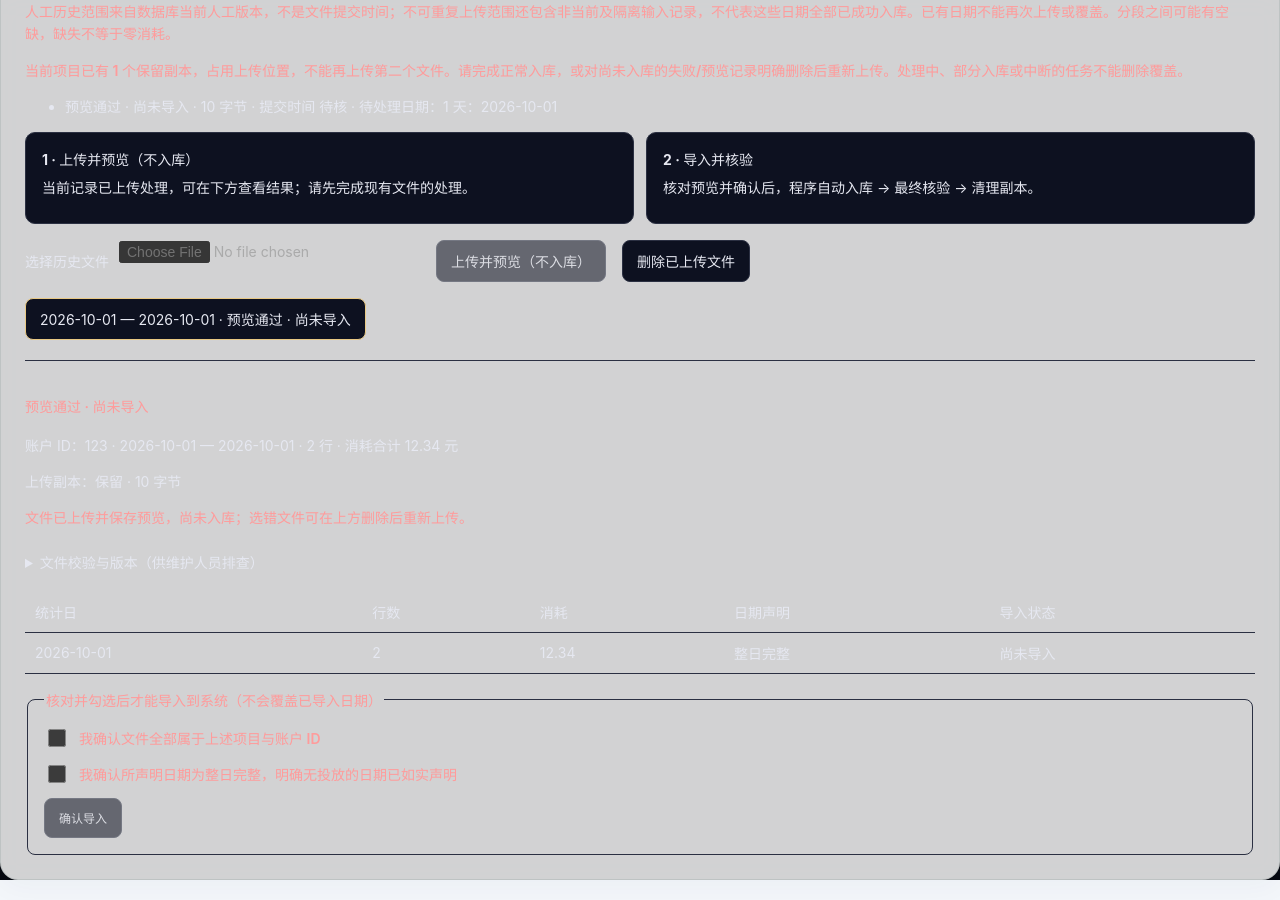
Test: history upload confirmation and isolation › keeps completed import locked after context read failure until an explicit successful refresh
The width and height of the screenshot is (1280, 900).
(page scrolled)
Click the checkbox labelled "我确认文件全部属于上述项目与账户 ID" at (57, 738), box [48,729,66,747]
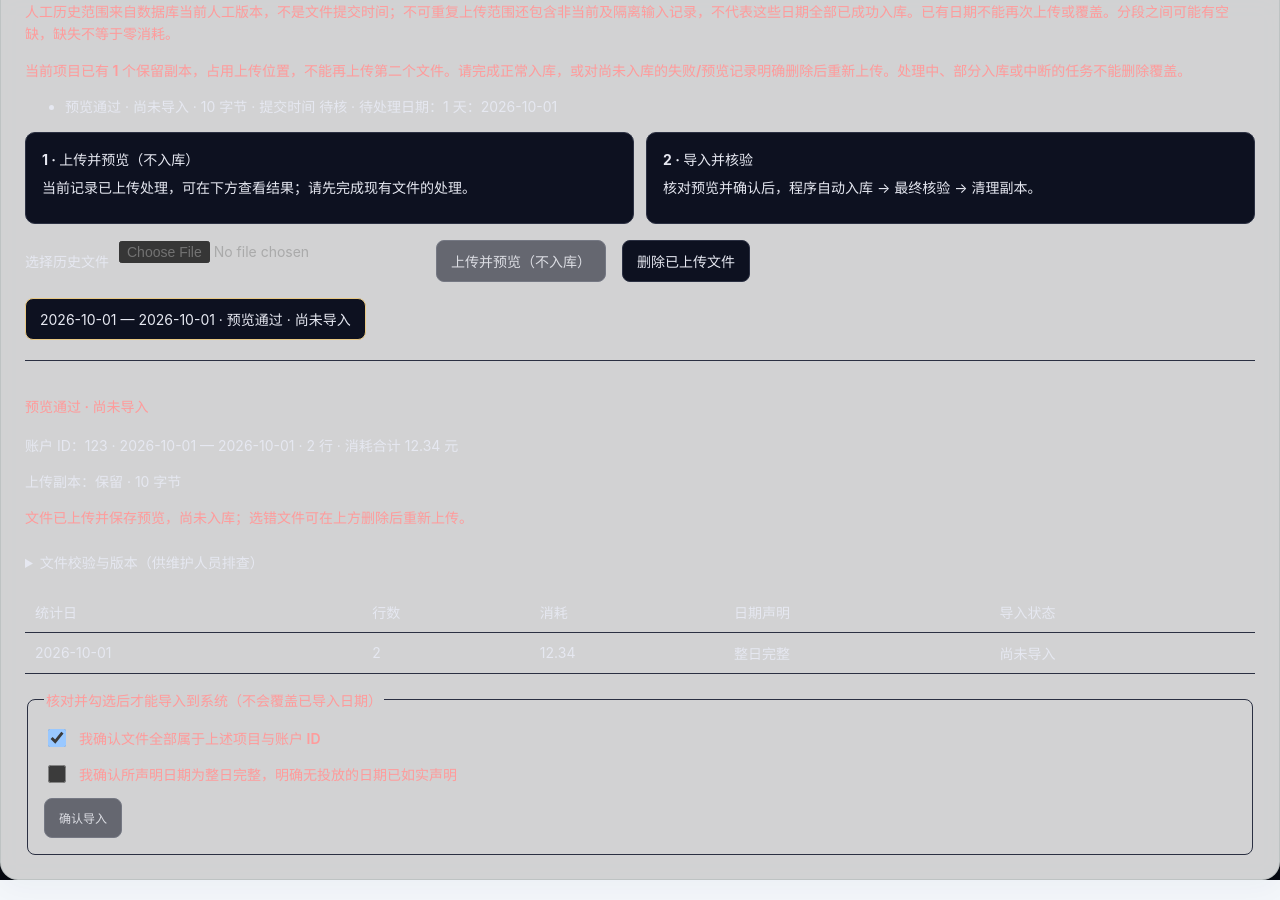
Click the checkbox labelled "我确认所声明日期为整日完整，明确无投放的日期已如实声明" at (57, 774), box [48,765,66,783]
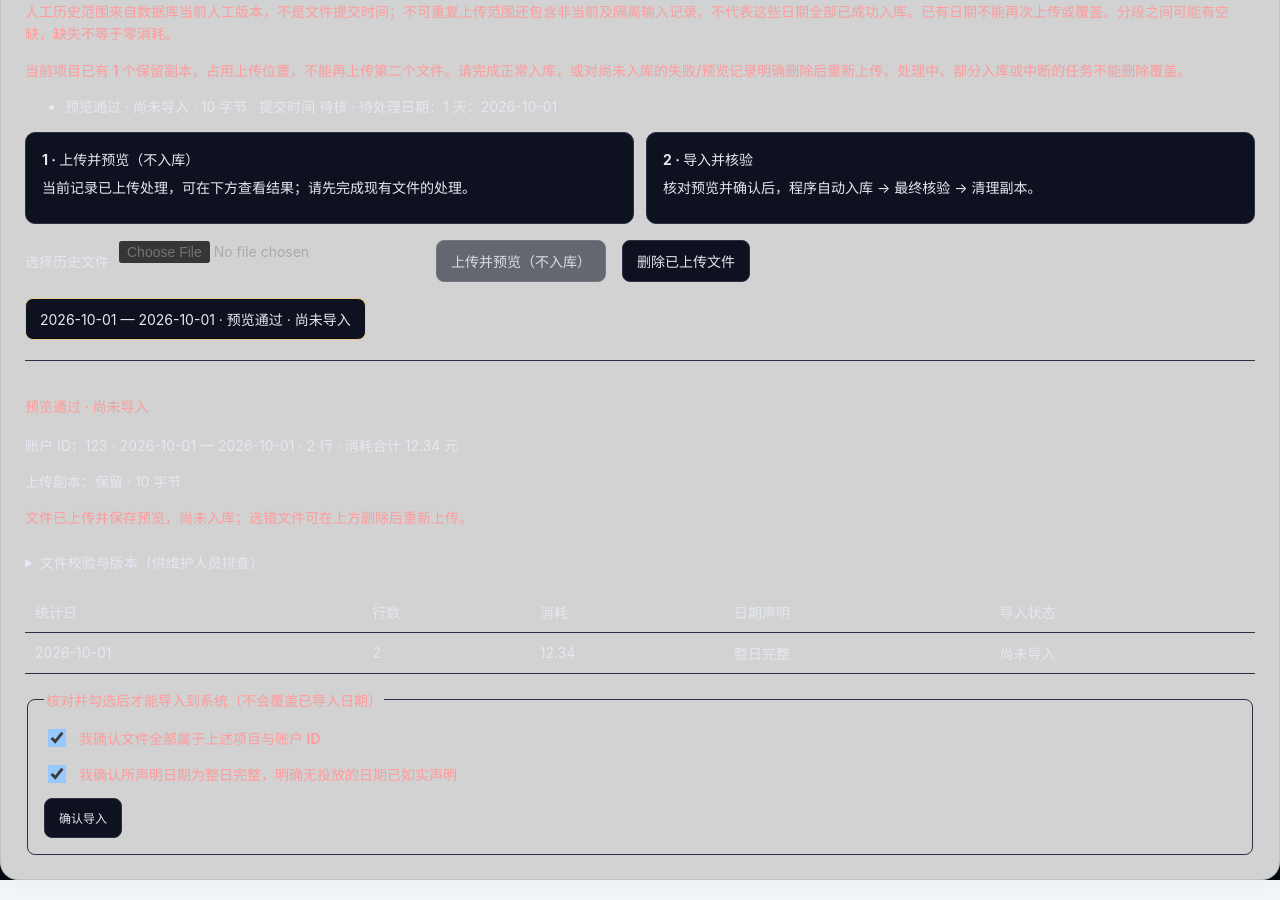
Click the button "确认导入" at (83, 818), box [44,798,122,838]
(page scrolled)
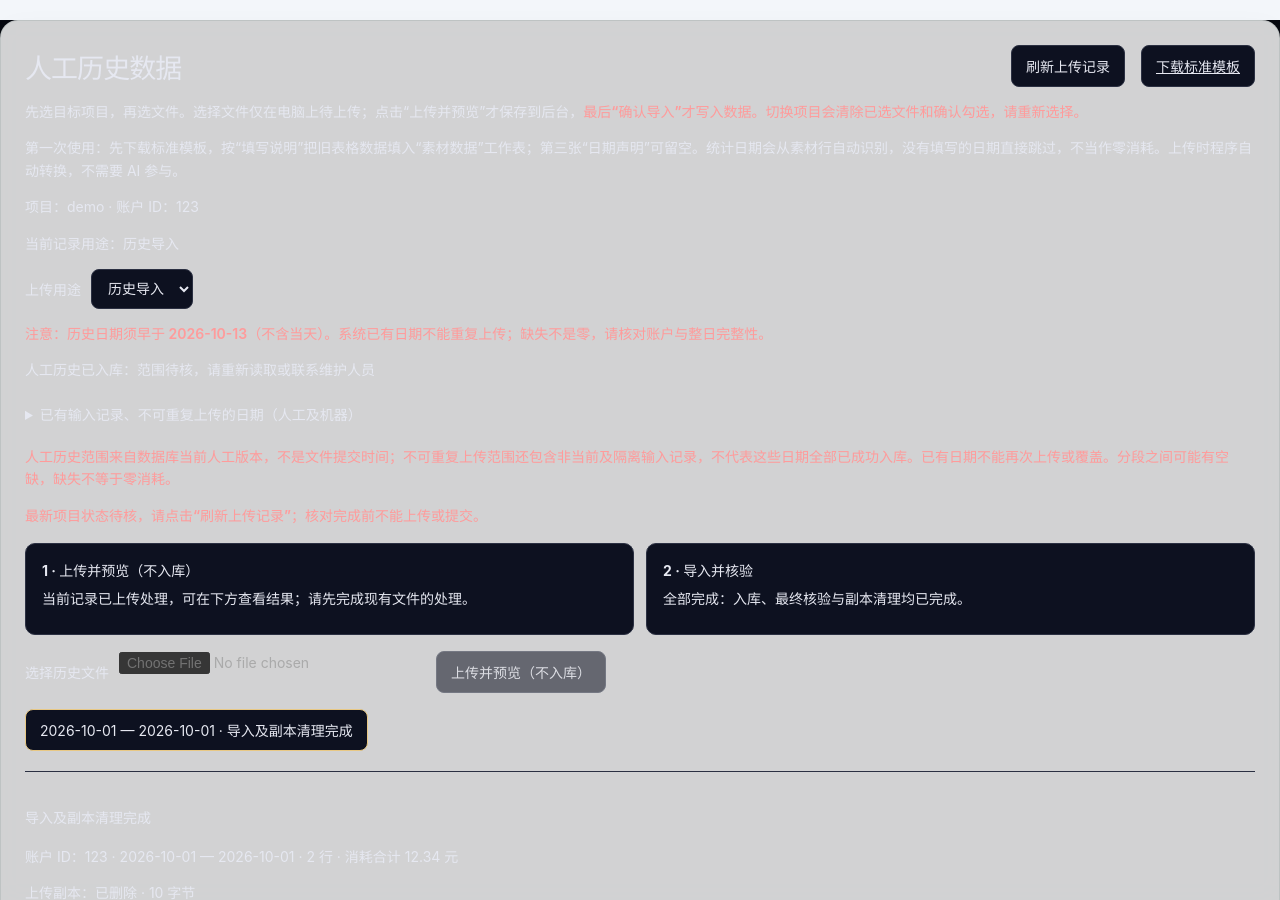
Expected: the file field labelled "选择历史文件" is disabled, [119,652,420,692]
Expected: the text "导入及副本清理完成" is shown, [25,709,368,751]
Click the button "刷新上传记录" at (1068, 66), box [1011,45,1125,87]
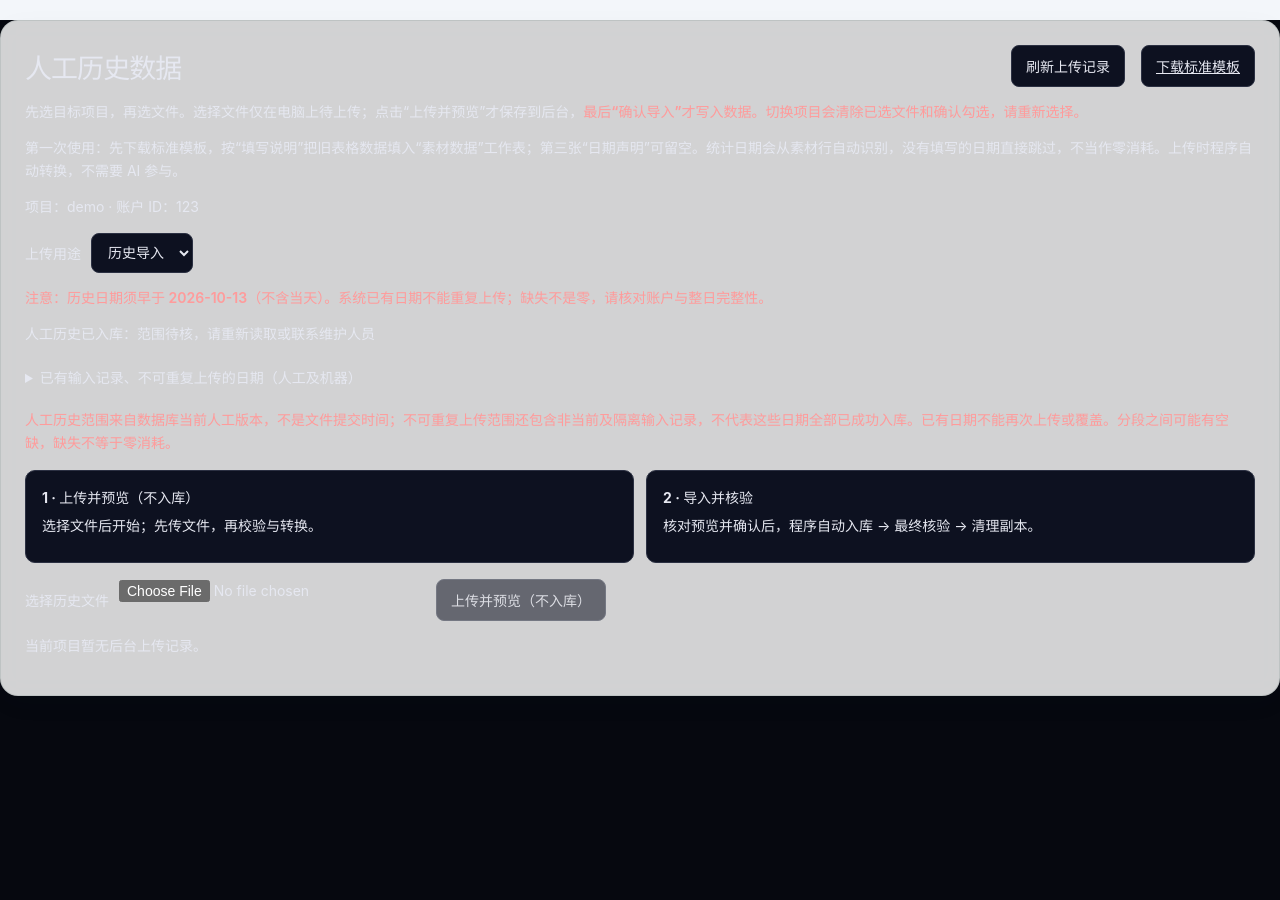
Expected: the file field labelled "选择历史文件" is enabled, [119,580,420,620]
